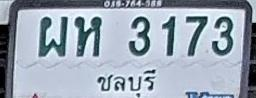1: (162, 16, 176, 56)
3: (128, 16, 150, 56), (212, 16, 234, 55)
7: (186, 15, 208, 56)
A28: (38, 16, 68, 56)
A41: (74, 17, 102, 56)
CBI: (93, 67, 161, 98)
